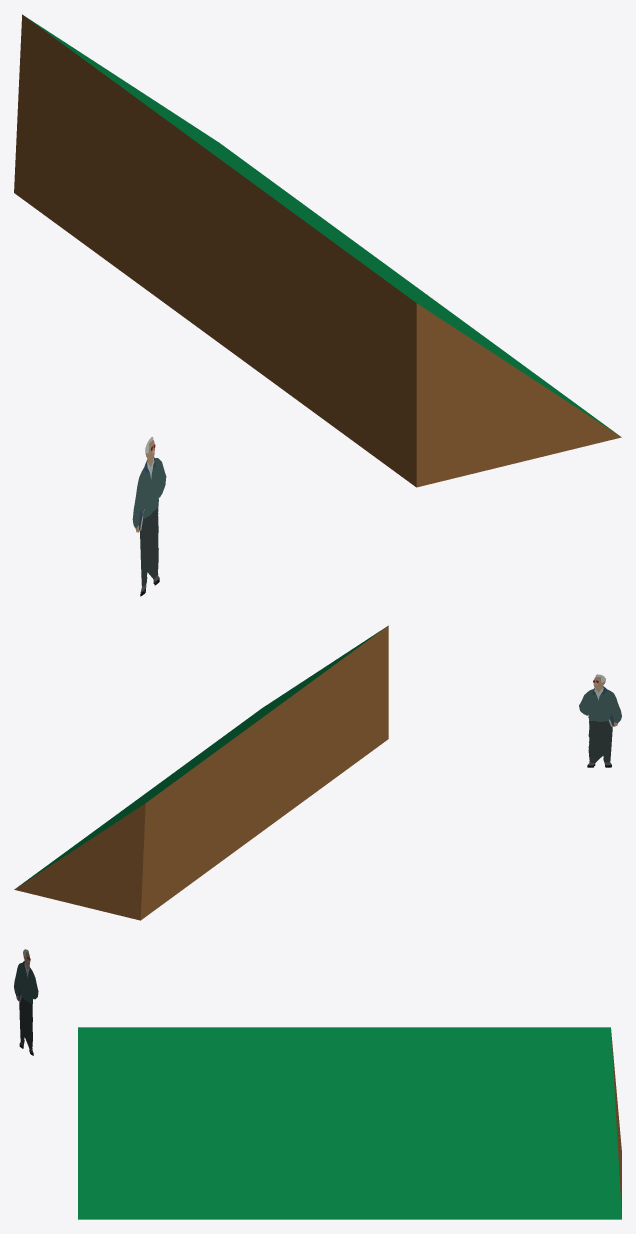
Rendered from hill.fbx.
The picture shows the model from 3 angles, top to bottom: view 1: azimuth 30°, elevation 25°; view 2: azimuth 150°, elevation 25°; view 3: azimuth 270°, elevation 25°; orthographic projection. The views are drawn at different scales.
Visible parts, largest first — view 1: Model, Steve1; view 2: Model, Steve1; view 3: Model, Steve1.
Part boxes in pixels (x1=…): Model: x1=14, y1=14, x2=621, y2=487; Steve1: x1=132, y1=437, x2=166, y2=596; Model: x1=14, y1=625, x2=388, y2=920; Steve1: x1=579, y1=674, x2=621, y2=767; Model: x1=78, y1=1027, x2=621, y2=1219; Steve1: x1=14, y1=949, x2=38, y2=1055.
Bounding box in the file's own units: 6.27 × 2.06 × 9.1.
